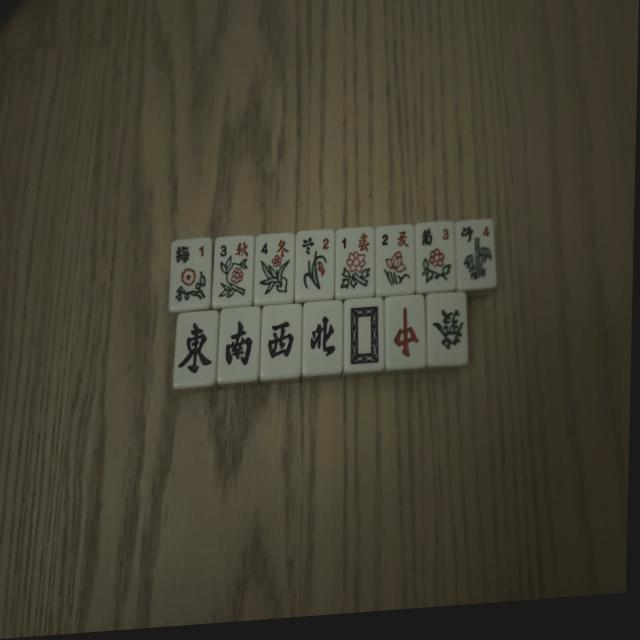bai: (343, 297, 385, 371)
east: (172, 309, 219, 388)
f1: (170, 237, 214, 313)
f2: (295, 228, 336, 302)
f3: (416, 220, 460, 293)
f4: (453, 219, 497, 291)
fa: (425, 291, 472, 368)
ff1: (335, 226, 376, 299)
ff2: (376, 223, 418, 295)
ff3: (214, 234, 256, 309)
ff4: (255, 231, 297, 306)
north: (302, 300, 344, 374)
south: (220, 305, 262, 382)
west: (261, 303, 304, 379)
zhong: (385, 296, 429, 370)
